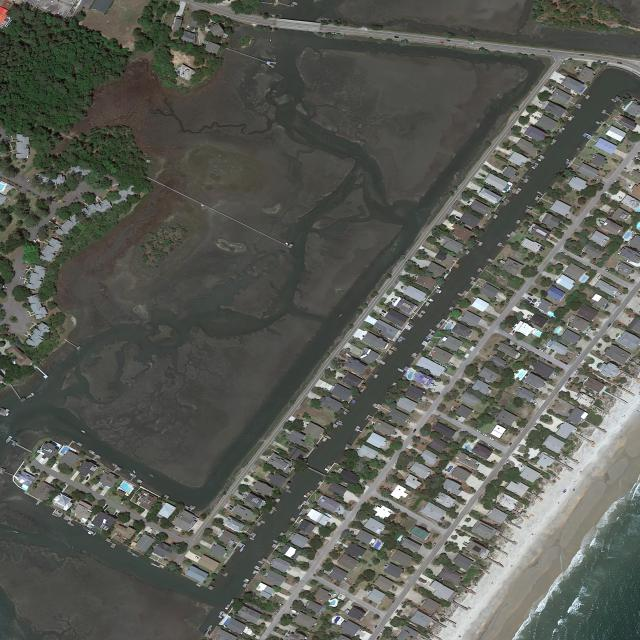ship: (291, 609, 300, 615), (150, 474, 155, 478), (6, 412, 10, 417), (132, 470, 136, 474), (81, 430, 86, 433)
small-vehicle: (613, 294, 619, 299), (617, 291, 623, 296), (291, 613, 298, 617), (501, 464, 506, 469), (382, 626, 387, 631), (613, 178, 618, 183), (518, 464, 524, 468), (489, 437, 495, 441), (331, 593, 337, 597), (546, 360, 552, 364), (529, 113, 535, 117), (436, 237, 442, 241), (227, 507, 233, 511), (617, 195, 623, 199), (448, 362, 454, 366), (429, 388, 436, 391), (186, 25, 190, 30), (339, 536, 344, 540), (444, 541, 448, 546), (432, 542, 436, 547), (408, 495, 412, 500), (487, 443, 492, 447), (482, 433, 487, 437), (412, 429, 417, 433), (531, 398, 536, 402), (565, 382, 570, 386), (567, 377, 572, 381), (541, 244, 546, 248), (247, 627, 252, 631), (276, 609, 280, 614), (373, 625, 378, 629), (563, 361, 568, 365), (229, 505, 234, 509), (104, 505, 109, 509), (607, 323, 612, 327), (553, 373, 558, 377), (541, 357, 546, 361), (539, 348, 544, 352), (522, 346, 527, 350), (584, 332, 589, 336), (525, 299, 530, 303), (527, 297, 532, 301), (528, 292, 533, 296), (591, 261, 596, 265), (540, 246, 545, 250), (606, 269, 611, 273), (476, 430, 482, 433), (405, 420, 411, 423), (534, 354, 540, 357), (334, 544, 338, 548), (505, 460, 509, 464), (575, 368, 579, 372), (391, 599, 395, 603), (338, 595, 342, 599), (395, 609, 399, 613), (376, 636, 380, 640), (26, 179, 30, 183), (551, 87, 555, 91), (158, 517, 162, 521), (101, 508, 105, 512), (114, 512, 118, 516), (86, 476, 90, 480), (49, 481, 53, 485), (25, 225, 29, 229), (576, 353, 580, 357), (511, 330, 515, 334), (533, 402, 538, 405), (439, 41, 444, 44), (19, 277, 24, 280), (455, 216, 460, 219), (382, 310, 387, 313), (194, 556, 199, 559), (530, 351, 535, 354), (506, 338, 511, 341), (559, 359, 564, 362), (538, 248, 543, 251), (617, 62, 623, 64), (509, 443, 512, 447), (400, 602, 404, 605), (518, 444, 521, 448), (579, 54, 585, 56), (393, 36, 399, 38), (2, 286, 8, 288), (380, 631, 383, 635), (389, 618, 392, 622), (381, 313, 385, 316), (238, 492, 242, 495), (121, 501, 124, 505), (608, 212, 612, 215), (558, 228, 562, 231), (530, 303, 534, 306), (469, 42, 474, 44), (445, 39, 450, 41), (331, 32, 336, 34), (2, 288, 7, 290), (591, 329, 596, 331), (546, 51, 550, 53), (265, 456, 269, 458), (278, 604, 284, 605)
